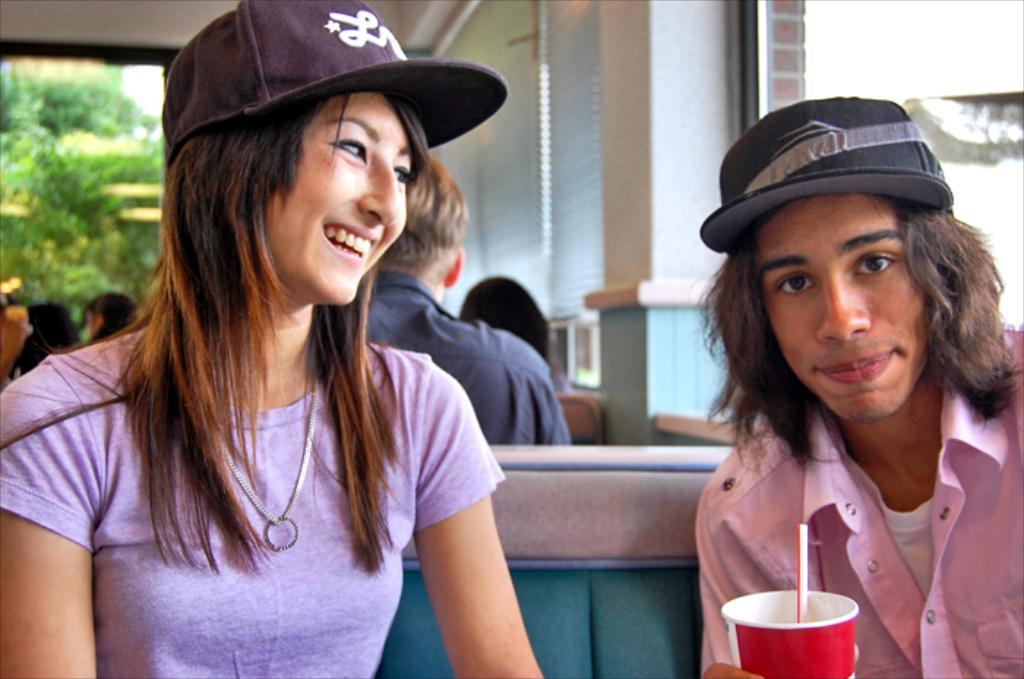Hat: (160, 0, 514, 150), (692, 97, 954, 257)
